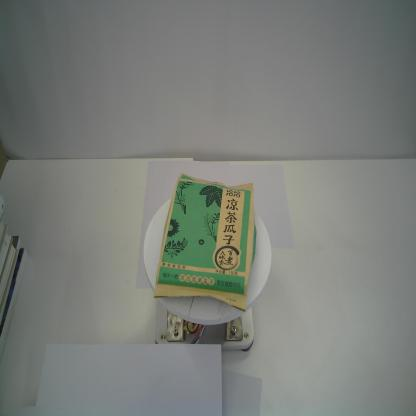Dried Food: (153, 172, 257, 312)
